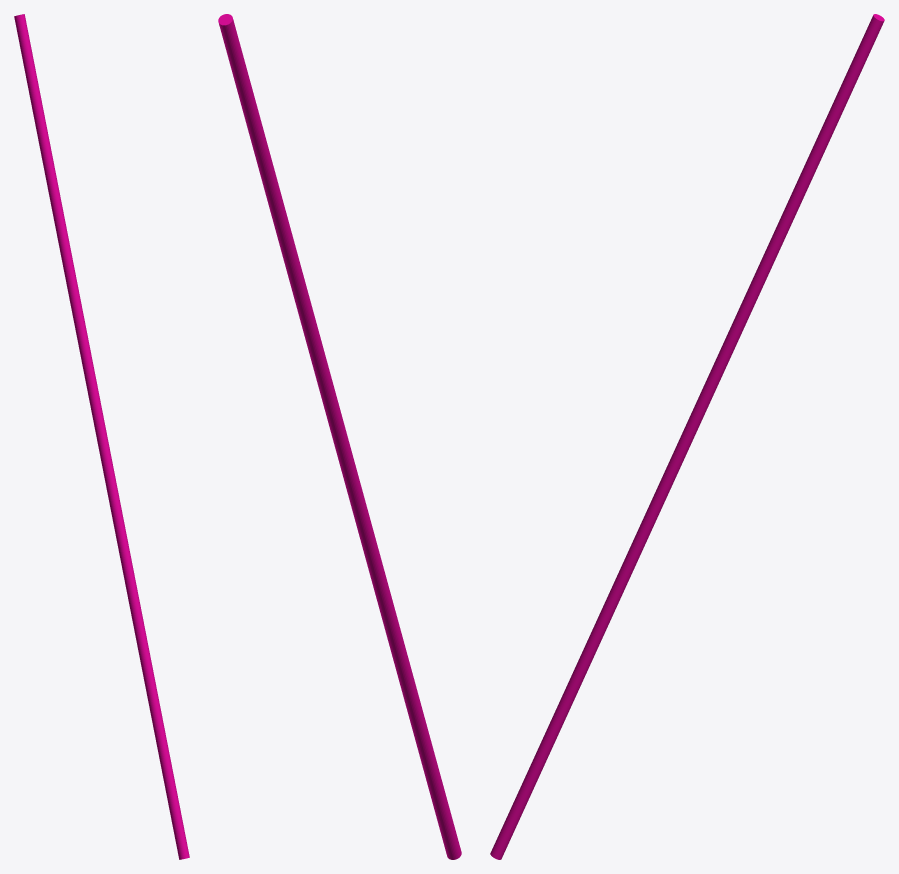
3 views of the same model, side by side, from view 1: azimuth 30°, elevation 25°; view 2: azimuth 150°, elevation 25°; view 3: azimuth 270°, elevation 25° (orthographic). The views are drawn at different scales.
Visible parts, largest first — view 1: Циліндр.009; view 2: Циліндр.009; view 3: Циліндр.009.
Boxes of the visible parts, bbox=[...] form: Циліндр.009: bbox=[14, 14, 189, 859]; Циліндр.009: bbox=[218, 14, 461, 859]; Циліндр.009: bbox=[490, 14, 884, 859].
Size of the model in its own units: 0.0971 by 7.12 by 3.01.
